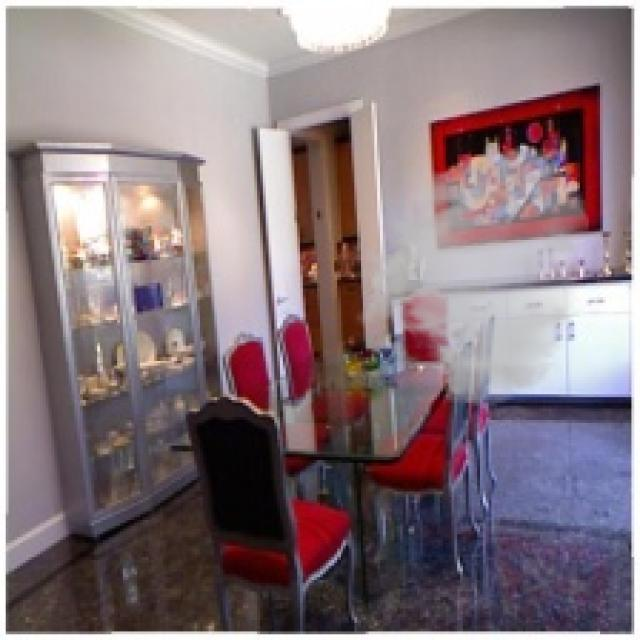smoke: (354, 143, 592, 408)
